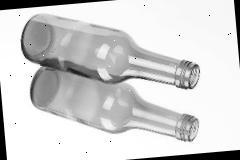glass: (16, 0, 205, 157)
